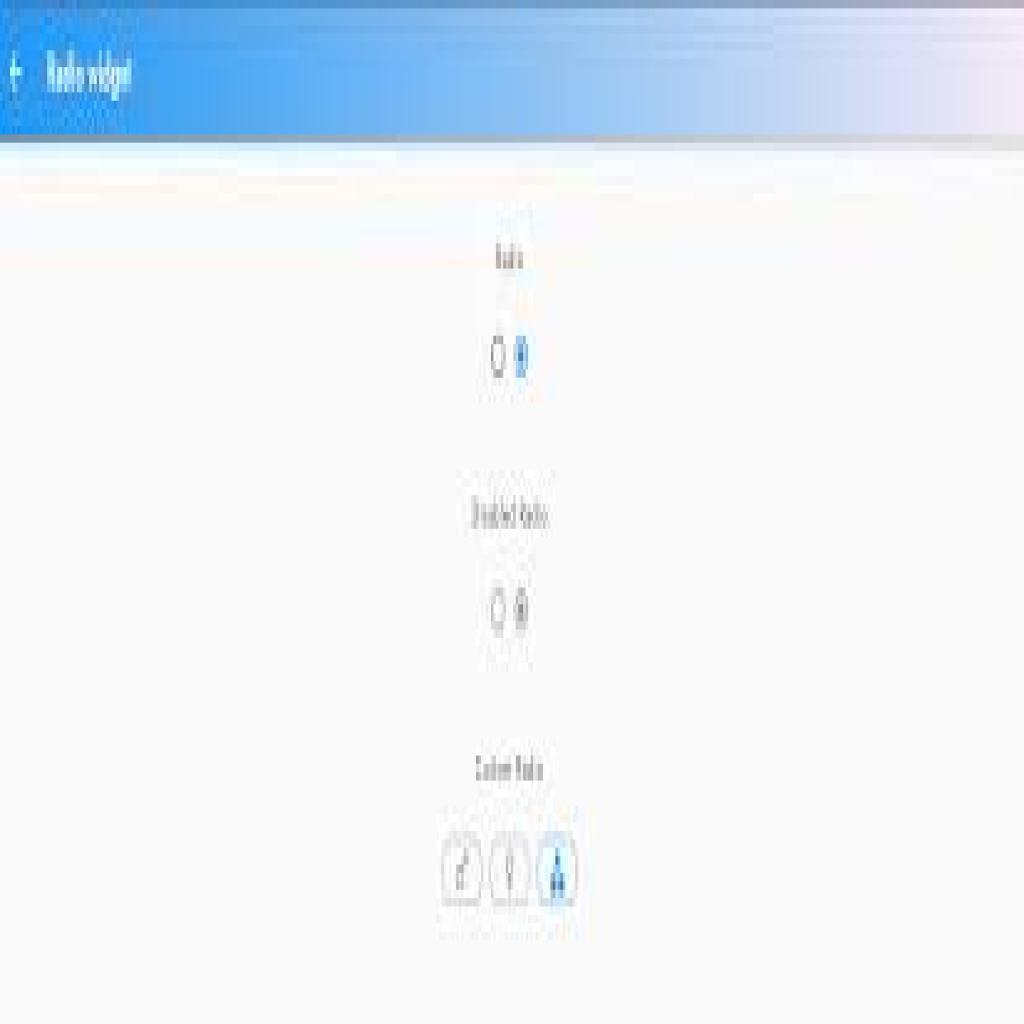radio: (489, 334, 510, 378), (513, 589, 532, 635), (491, 589, 508, 640), (514, 335, 532, 381)
